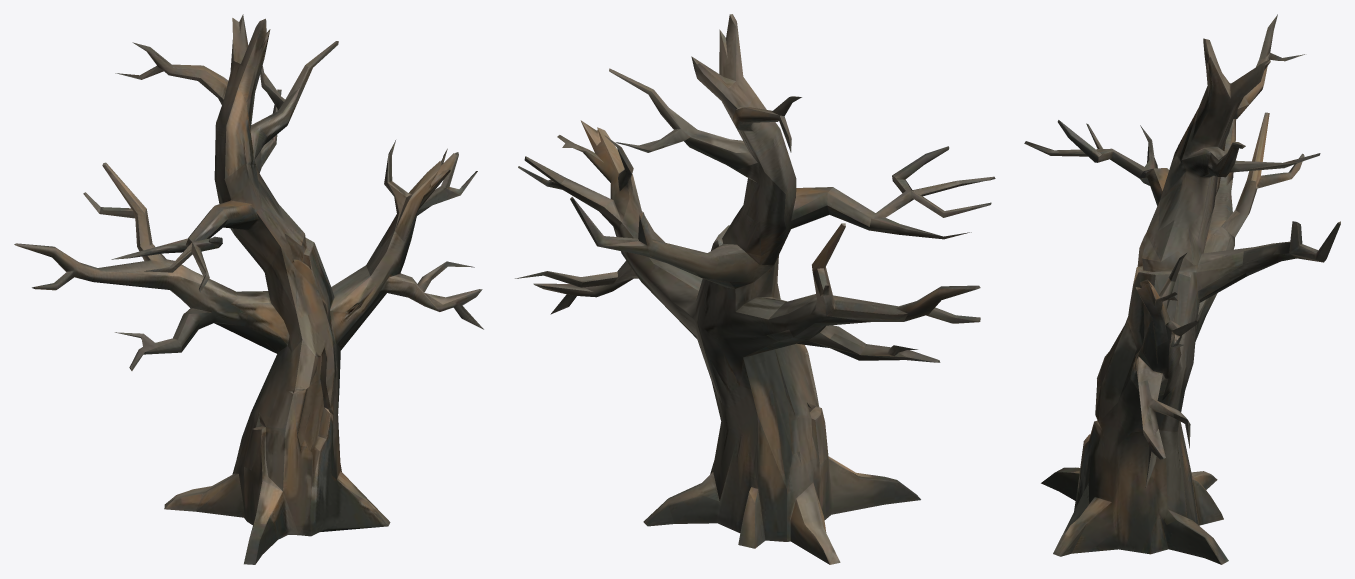
The model's file is prop_tree.glb.
3 views of the same model, side by side, from view 1: azimuth 30°, elevation 25°; view 2: azimuth 150°, elevation 25°; view 3: azimuth 270°, elevation 25° (orthographic). The views are drawn at different scales.
Size of the model in its own units: 1.87 by 1.9 by 1.11.
1 material, 1 textured.
